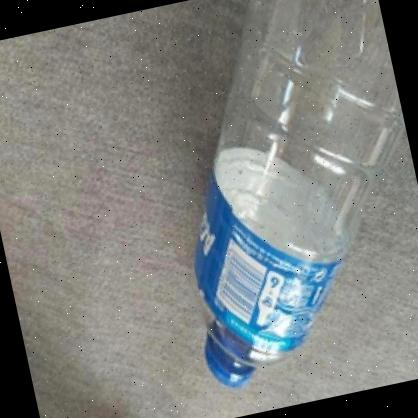bottle: (108, 0, 418, 398)
cap: (194, 340, 254, 397)
label: (162, 149, 366, 378)
